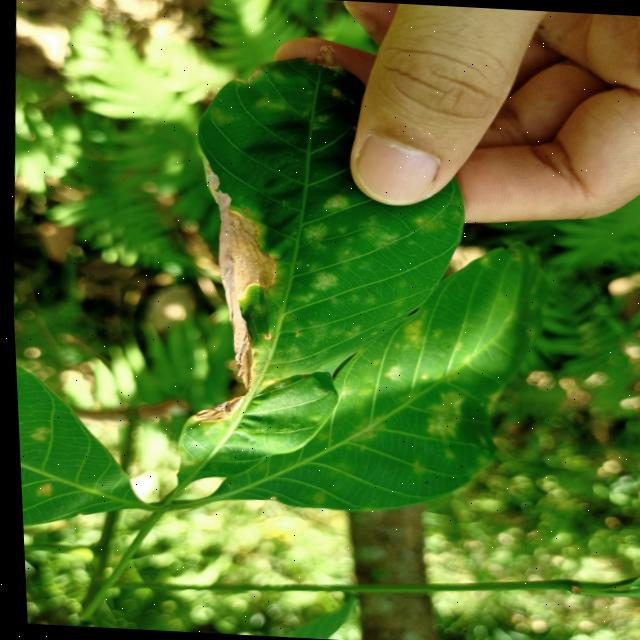Leaf-Blight: (192, 162, 285, 391), (184, 387, 246, 426)
